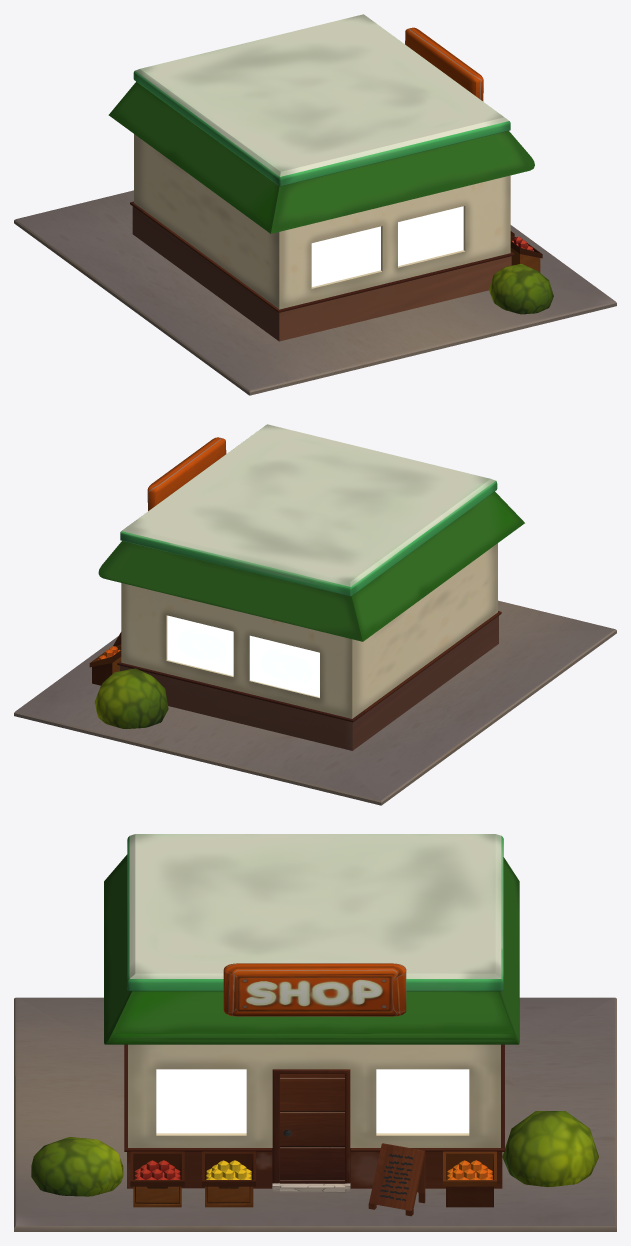
File: Loja.fbx
3 renders of one model, top to bottom at view 1: azimuth 30°, elevation 25°; view 2: azimuth 150°, elevation 25°; view 3: azimuth 270°, elevation 25°, orthographic. The views are drawn at different scales.
Parts seen in each view (by area): view 1: Loja; view 2: Loja; view 3: Loja.
Part boxes in pixels (x1=…): Loja: x1=14, y1=14, x2=616, y2=395; Loja: x1=14, y1=424, x2=616, y2=805; Loja: x1=14, y1=834, x2=616, y2=1231.
Bounding box in the file's own units: 734 × 346 × 815.
